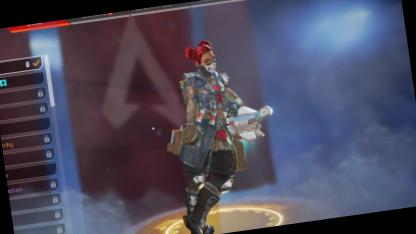Target: (163, 36, 241, 188)
